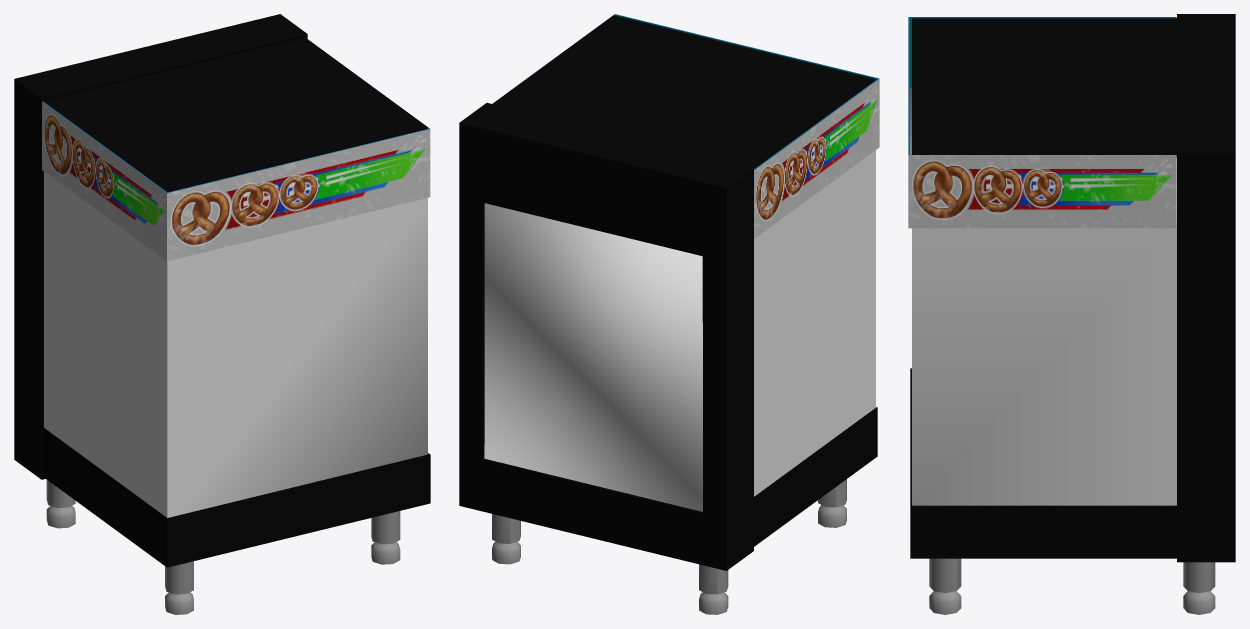
File: Prop_PretzelCase.fbx
The picture shows the model from 3 angles, left to right: view 1: azimuth 30°, elevation 25°; view 2: azimuth 150°, elevation 25°; view 3: azimuth 270°, elevation 25°; orthographic projection. The views are drawn at different scales.
Visible parts, largest first — view 1: PretzelCase; view 2: PretzelCase; view 3: PretzelCase.
Boxes of the visible parts, box(x1,y1,x2,y2) form: PretzelCase: box(14, 14, 430, 614); PretzelCase: box(459, 14, 879, 614); PretzelCase: box(908, 14, 1235, 614).
Bounding box in the file's own units: 40 × 63 × 39.73.
